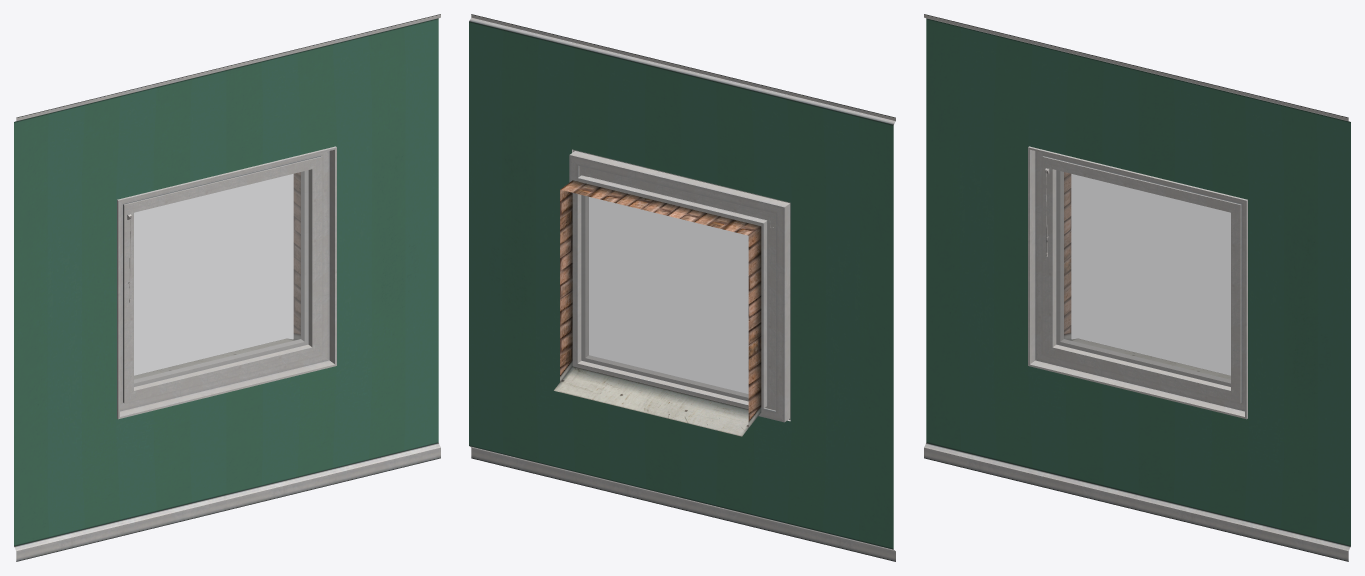
File: 00_04_flat_window_no_blinds.dae
The picture shows the model from 3 angles, left to right: view 1: azimuth 30°, elevation 25°; view 2: azimuth 150°, elevation 25°; view 3: azimuth 330°, elevation 25°; orthographic projection.
Visible parts, largest first — view 1: livingroom_flat_window_window, pPlane13; view 2: livingroom_flat_window_window, pPlane13; view 3: livingroom_flat_window_window, pPlane13.
Part boxes in pixels (left/top/right/bottom): livingroom_flat_window_window: left=14, top=14, right=440, bottom=561; pPlane13: left=134, top=170, right=308, bottom=386; livingroom_flat_window_window: left=469, top=14, right=895, bottom=561; pPlane13: left=580, top=175, right=768, bottom=406; livingroom_flat_window_window: left=924, top=14, right=1350, bottom=561; pPlane13: left=1056, top=170, right=1230, bottom=386.
Bounding box in the file's own units: 4 × 4 × 0.5829.
